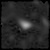node: (16, 19, 32, 30)
